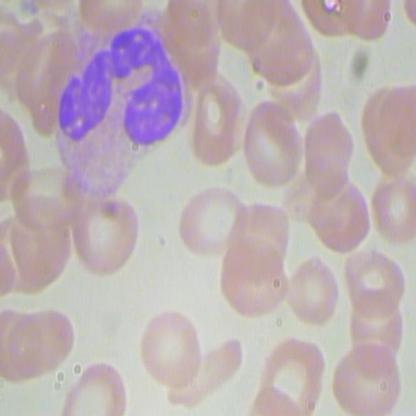RBC: (67, 191, 146, 279), (242, 100, 306, 192), (256, 337, 331, 415), (177, 186, 253, 262), (5, 306, 81, 381), (218, 237, 289, 317), (139, 303, 202, 393), (328, 342, 402, 416), (187, 73, 244, 165), (302, 106, 358, 198), (341, 245, 410, 319), (60, 358, 133, 415), (286, 255, 340, 331), (370, 169, 415, 249)
WBC: (40, 6, 191, 195)
